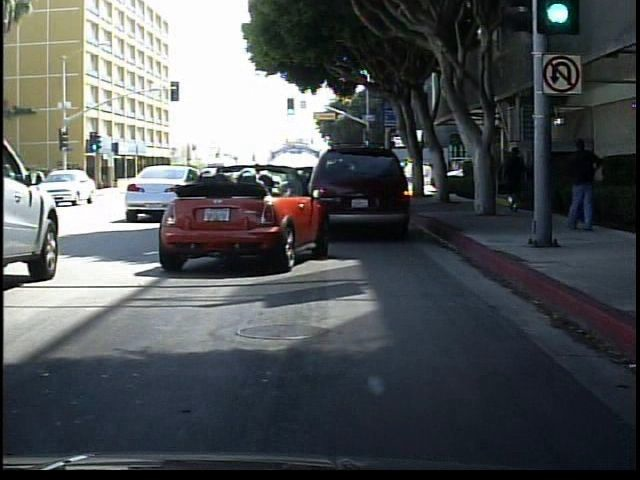person: (559, 132, 606, 239), (502, 140, 530, 213)
